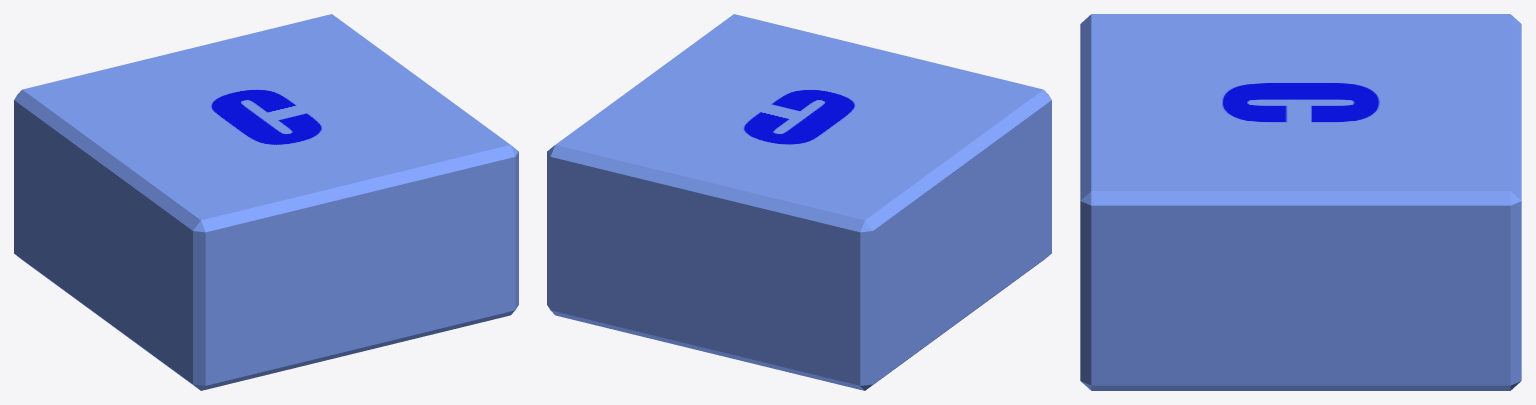
3 views of the same model, side by side, from view 1: azimuth 30°, elevation 25°; view 2: azimuth 150°, elevation 25°; view 3: azimuth 270°, elevation 25° (orthographic). The views are drawn at different scales.
Parts seen in each view (by area): view 1: testTile_3_blue; view 2: testTile_3_blue; view 3: testTile_3_blue.
Boxes of the visible parts, bbox=[...] form: testTile_3_blue: bbox=[14, 14, 518, 390]; testTile_3_blue: bbox=[547, 14, 1051, 390]; testTile_3_blue: bbox=[1080, 14, 1521, 390].
Bounding box in the file's own units: 1 × 0.5 × 1.
1 material, 1 textured.
